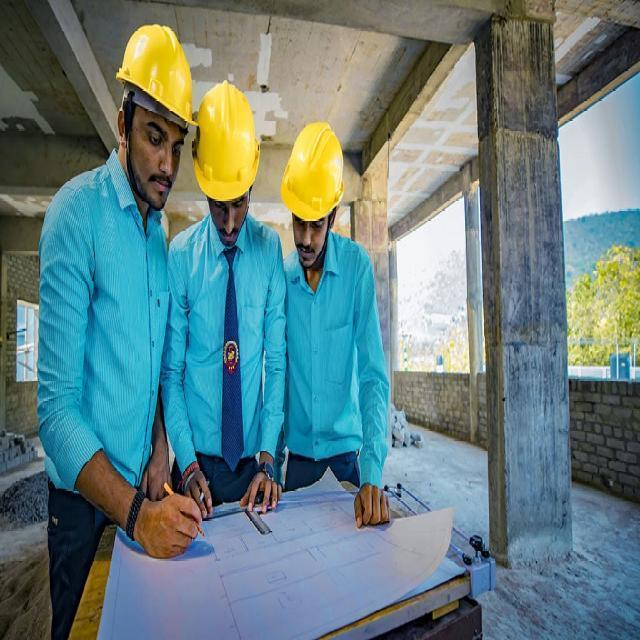No_BreathingApparatus: (124, 103, 184, 210), (292, 195, 333, 270), (207, 189, 247, 244)
No_Goggles: (138, 118, 184, 163)
Person: (34, 25, 195, 579), (176, 76, 286, 523), (286, 109, 395, 521)
